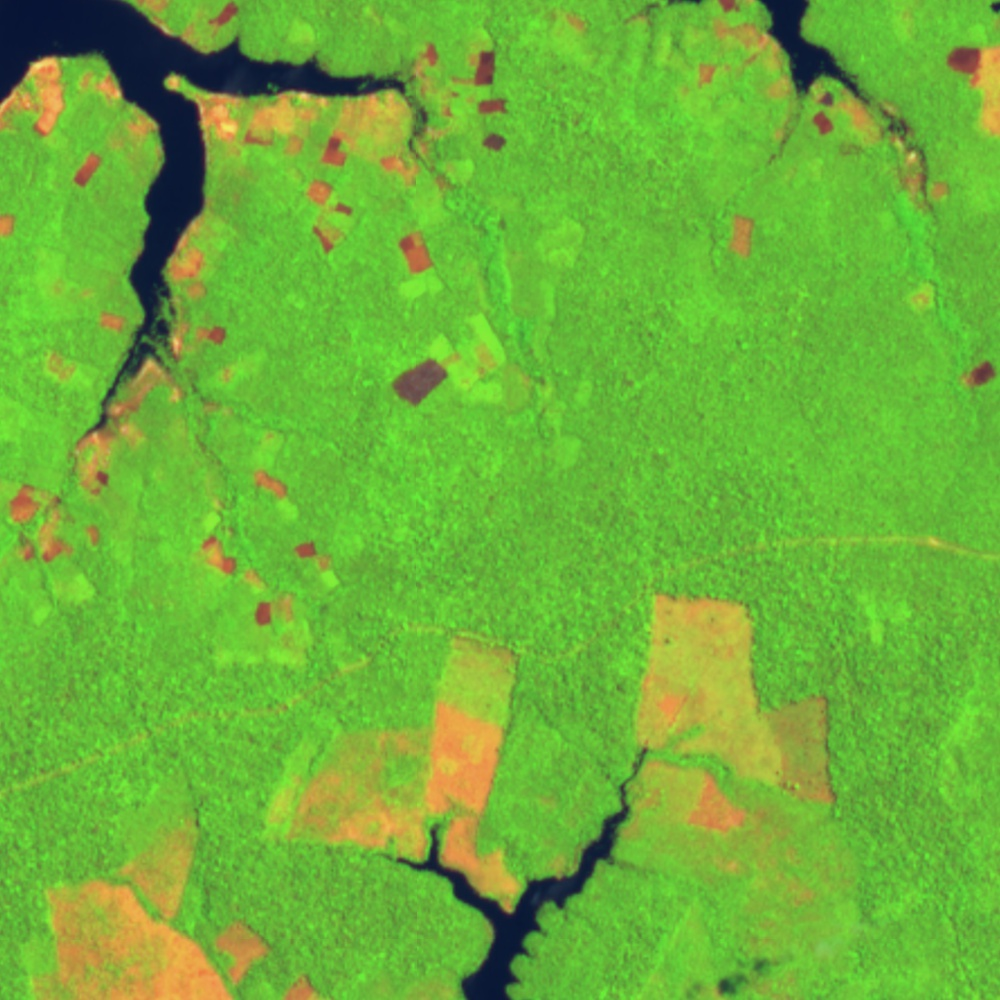legal: (258, 634, 528, 915), (625, 593, 837, 882), (47, 809, 321, 1000), (65, 353, 186, 494), (839, 82, 952, 214), (393, 311, 510, 419), (710, 12, 798, 149), (321, 91, 419, 184), (202, 529, 294, 628), (408, 44, 463, 195), (9, 484, 100, 560), (139, 1, 240, 58), (1, 55, 66, 141), (195, 393, 238, 523), (244, 91, 326, 159), (946, 45, 1000, 135), (168, 203, 209, 314), (304, 178, 355, 254), (398, 231, 449, 297), (611, 1, 760, 23), (194, 88, 243, 154), (250, 465, 301, 519), (294, 538, 342, 586), (168, 319, 228, 357), (453, 48, 501, 86), (807, 81, 837, 136), (125, 109, 165, 149), (729, 207, 757, 264), (79, 68, 124, 103), (70, 148, 104, 193), (964, 355, 999, 390), (43, 350, 73, 381), (63, 573, 97, 599), (94, 310, 130, 334), (694, 57, 722, 85), (476, 95, 511, 115), (480, 132, 510, 155), (912, 289, 934, 315), (164, 71, 186, 93), (1, 210, 18, 238)
